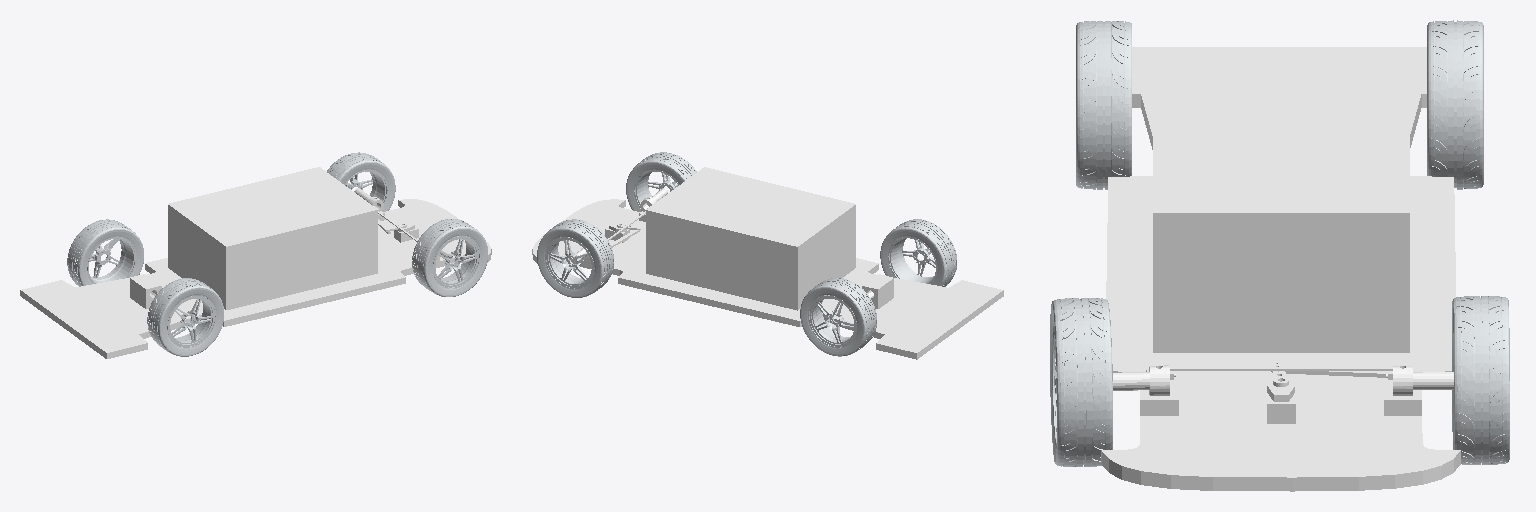
URDF robot description (robourdf):
<?xml version="1.0" encoding="utf-8"?>
<!-- This URDF was automatically created by SolidWorks to URDF Exporter! Originally created by [author] ([email redacted]) 
     Commit Version: 1.6.0-1-g15f4949  Build Version: 1.6.7594.29634
     For more information, please see http://wiki.ros.org/sw_urdf_exporter -->
<robot
  name="robourdf">
  <link
    name="base_link">
    <inertial>
      <origin
        xyz="0.0086291 -5.0975E-06 0.032322"
        rpy="0 0 0" />
      <mass
        value="2.4924" />
      <inertia
        ixx="0.0047159"
        ixy="-6.4503E-07"
        ixz="-0.00021518"
        iyy="0.017382"
        iyz="9.5079E-08"
        izz="0.019197" />
    </inertial>
    <visual>
      <origin
        xyz="0 0 0"
        rpy="0 0 0" />
      <geometry>
        <mesh
          filename="package://robourdf/meshes/base_link.STL" />
      </geometry>
      <material
        name="">
        <color
          rgba="1 1 1 1" />
      </material>
    </visual>
    <collision>
      <origin
        xyz="0 0 0"
        rpy="0 0 0" />
      <geometry>
        <mesh
          filename="package://robourdf/meshes/base_link.STL" />
      </geometry>
    </collision>
  </link>
  <link
    name="rearaxle">
    <inertial>
      <origin
        xyz="-0.13454 -0.00063038 0.022025"
        rpy="0 0 0" />
      <mass
        value="0.34207" />
      <inertia
        ixx="0.00019284"
        ixy="-2.7786E-10"
        ixz="9.9957E-12"
        iyy="0.00035274"
        iyz="1.0129E-11"
        izz="0.00019284" />
    </inertial>
    <visual>
      <origin
        xyz="0 0 0"
        rpy="0 0 0" />
      <geometry>
        <mesh
          filename="package://robourdf/meshes/rearaxle.STL" />
      </geometry>
      <material
        name="">
        <color
          rgba="0.89804 0.91765 0.92941 1" />
      </material>
    </visual>
    <collision>
      <origin
        xyz="0 0 0"
        rpy="0 0 0" />
      <geometry>
        <mesh
          filename="package://robourdf/meshes/rearaxle.STL" />
      </geometry>
    </collision>
  </link>
  <joint
    name="rear_joint"
    type="revolute">
    <origin
      xyz="0 0 0"
      rpy="0 0 0" />
    <parent
      link="base_link" />
    <child
      link="rearaxle" />
    <axis
      xyz="0 -1 0" />
    <limit
      lower="0"
      upper="0"
      effort="0"
      velocity="0" />
  </joint>
  <link
    name="steersystem">
    <inertial>
      <origin
        xyz="0 0 0"
        rpy="0 0 0" />
      <mass
        value="0.0028" />
      <inertia
        ixx="0"
        ixy="0"
        ixz="0"
        iyy="0"
        iyz="0"
        izz="0" />
    </inertial>
    <visual>
      <origin
        xyz="0 0 0"
        rpy="0 0 0" />
      <geometry>
        <mesh
          filename="package://robourdf/meshes/steersystem.STL" />
      </geometry>
      <material
        name="">
        <color
          rgba="1 1 1 1" />
      </material>
    </visual>
    <collision>
      <origin
        xyz="0 0 0"
        rpy="0 0 0" />
      <geometry>
        <mesh
          filename="package://robourdf/meshes/steersystem.STL" />
      </geometry>
    </collision>
  </link>
  <joint
    name="steerlink"
    type="revolute">
    <origin
      xyz="0 0 0"
      rpy="0 0 0" />
    <parent
      link="base_link" />
    <child
      link="steersystem" />
    <axis
      xyz="0 0 1" />
    <limit
      lower="0"
      upper="0"
      effort="0"
      velocity="0" />
  </joint>
  <link
    name="steerarm_left">
    <inertial>
      <origin
        xyz="0.14717 0.029169 0.0195"
        rpy="0 0 0" />
      <mass
        value="0.00074654" />
      <inertia
        ixx="2.7069E-07"
        ixy="-3.0442E-08"
        ixz="-1.5133E-15"
        iyy="5.1629E-09"
        iyz="-1.1614E-14"
        izz="2.7535E-07" />
    </inertial>
    <visual>
      <origin
        xyz="0 0 0"
        rpy="0 0 0" />
      <geometry>
        <mesh
          filename="package://robourdf/meshes/steerarm_left.STL" />
      </geometry>
      <material
        name="">
        <color
          rgba="1 1 1 1" />
      </material>
    </visual>
    <collision>
      <origin
        xyz="0 0 0"
        rpy="0 0 0" />
      <geometry>
        <mesh
          filename="package://robourdf/meshes/steerarm_left.STL" />
      </geometry>
    </collision>
  </link>
  <joint
    name="steerleft"
    type="revolute">
    <origin
      xyz="0 0 0"
      rpy="0 0 0" />
    <parent
      link="steersystem" />
    <child
      link="steerarm_left" />
    <axis
      xyz="0 0 0" />
    <limit
      lower="0"
      upper="0"
      effort="0"
      velocity="0" />
  </joint>
  <link
    name="left_link">
    <inertial>
      <origin
        xyz="0.15383 0.054211 0.022"
        rpy="0 0 0" />
      <mass
        value="0.00016034" />
      <inertia
        ixx="2.6046E-09"
        ixy="1.7611E-10"
        ixz="-9.2961E-25"
        iyy="4.8971E-10"
        iyz="-4.2435E-25"
        izz="2.8495E-09" />
    </inertial>
    <visual>
      <origin
        xyz="0 0 0"
        rpy="0 0 0" />
      <geometry>
        <mesh
          filename="package://robourdf/meshes/left_link.STL" />
      </geometry>
      <material
        name="">
        <color
          rgba="1 1 1 1" />
      </material>
    </visual>
    <collision>
      <origin
        xyz="0 0 0"
        rpy="0 0 0" />
      <geometry>
        <mesh
          filename="package://robourdf/meshes/left_link.STL" />
      </geometry>
    </collision>
  </link>
  <joint
    name="left_joint"
    type="revolute">
    <origin
      xyz="0 0 0"
      rpy="0 0 0" />
    <parent
      link="steerarm_left" />
    <child
      link="left_link" />
    <axis
      xyz="0 0 1" />
    <limit
      lower="0"
      upper="0"
      effort="0"
      velocity="0" />
  </joint>
  <link
    name="leftbracket">
    <inertial>
      <origin
        xyz="0.16154 0.067764 0.02198"
        rpy="0 0 0" />
      <mass
        value="0.0033831" />
      <inertia
        ixx="4.9015E-07"
        ixy="5.0201E-09"
        ixz="-5.1258E-12"
        iyy="5.7436E-08"
        iyz="4.7613E-10"
        izz="4.9213E-07" />
    </inertial>
    <visual>
      <origin
        xyz="0 0 0"
        rpy="0 0 0" />
      <geometry>
        <mesh
          filename="package://robourdf/meshes/leftbracket.STL" />
      </geometry>
      <material
        name="">
        <color
          rgba="1 1 1 1" />
      </material>
    </visual>
    <collision>
      <origin
        xyz="0 0 0"
        rpy="0 0 0" />
      <geometry>
        <mesh
          filename="package://robourdf/meshes/leftbracket.STL" />
      </geometry>
    </collision>
  </link>
  <joint
    name="leftlast"
    type="revolute">
    <origin
      xyz="0 0 0"
      rpy="0 0 0" />
    <parent
      link="left_link" />
    <child
      link="leftbracket" />
    <axis
      xyz="0 0 1" />
    <limit
      lower="0"
      upper="0"
      effort="0"
      velocity="0" />
  </joint>
  <link
    name="leftwheel">
    <inertial>
      <origin
        xyz="0.16124 0.090988 0.021969"
        rpy="0 0 0" />
      <mass
        value="0.17104" />
      <inertia
        ixx="9.6434E-05"
        ixy="-1.1144E-06"
        ixz="-7.5831E-11"
        iyy="0.00017636"
        iyz="-6.1166E-11"
        izz="9.6419E-05" />
    </inertial>
    <visual>
      <origin
        xyz="0 0 0"
        rpy="0 0 0" />
      <geometry>
        <mesh
          filename="package://robourdf/meshes/leftwheel.STL" />
      </geometry>
      <material
        name="">
        <color
          rgba="0.89804 0.91765 0.92941 1" />
      </material>
    </visual>
    <collision>
      <origin
        xyz="0 0 0"
        rpy="0 0 0" />
      <geometry>
        <mesh
          filename="package://robourdf/meshes/leftwheel.STL" />
      </geometry>
    </collision>
  </link>
  <joint
    name="leftfrontwheel"
    type="revolute">
    <origin
      xyz="0 0 0"
      rpy="0 0 0" />
    <parent
      link="leftbracket" />
    <child
      link="leftwheel" />
    <axis
      xyz="-0.013937 0.9999 0" />
    <limit
      lower="0"
      upper="0"
      effort="0"
      velocity="0" />
  </joint>
  <link
    name="rightconnectingrod">
    <inertial>
      <origin
        xyz="0.15309 -0.00031757 0.024"
        rpy="0 0 0" />
      <mass
        value="0.00026574" />
      <inertia
        ixx="2.3381E-07"
        ixy="-5.1015E-10"
        ixz="2.1301E-18"
        iyy="1.1163E-10"
        iyz="2.0318E-16"
        izz="2.3388E-07" />
    </inertial>
    <visual>
      <origin
        xyz="0 0 0"
        rpy="0 0 0" />
      <geometry>
        <mesh
          filename="package://robourdf/meshes/rightconnectingrod.STL" />
      </geometry>
      <material
        name="">
        <color
          rgba="1 1 1 1" />
      </material>
    </visual>
    <collision>
      <origin
        xyz="0 0 0"
        rpy="0 0 0" />
      <geometry>
        <mesh
          filename="package://robourdf/meshes/rightconnectingrod.STL" />
      </geometry>
    </collision>
  </link>
  <joint
    name="rightlinking"
    type="revolute">
    <origin
      xyz="0 0 0"
      rpy="0 0 0" />
    <parent
      link="left_link" />
    <child
      link="rightconnectingrod" />
    <axis
      xyz="0 0 1" />
    <limit
      lower="0"
      upper="0"
      effort="0"
      velocity="0" />
  </joint>
  <link
    name="rightconnector">
    <inertial>
      <origin
        xyz="0.15378 -0.054792 0.022"
        rpy="0 0 0" />
      <mass
        value="0.00016034" />
      <inertia
        ixx="2.6181E-09"
        ixy="-4.7296E-11"
        ixz="-1.0296E-25"
        iyy="4.7619E-10"
        iyz="1.4193E-25"
        izz="2.8495E-09" />
    </inertial>
    <visual>
      <origin
        xyz="0 0 0"
        rpy="0 0 0" />
      <geometry>
        <mesh
          filename="package://robourdf/meshes/rightconnector.STL" />
      </geometry>
      <material
        name="">
        <color
          rgba="1 1 1 1" />
      </material>
    </visual>
    <collision>
      <origin
        xyz="0 0 0"
        rpy="0 0 0" />
      <geometry>
        <mesh
          filename="package://robourdf/meshes/rightconnector.STL" />
      </geometry>
    </collision>
  </link>
  <joint
    name="rightjoint"
    type="revolute">
    <origin
      xyz="0 0 0"
      rpy="0 0 0" />
    <parent
      link="rightconnectingrod" />
    <child
      link="rightconnector" />
    <axis
      xyz="0 0 1" />
    <limit
      lower="0"
      upper="0"
      effort="0"
      velocity="0" />
  </joint>
  <link
    name="rightbracket">
    <inertial>
      <origin
        xyz="0.16228 -0.067778 0.021994"
        rpy="0 0 0" />
      <mass
        value="0.0033831" />
      <inertia
        ixx="4.8921E-07"
        ixy="2.074E-08"
        ixz="7.186E-12"
        iyy="5.8373E-08"
        iyz="-1.4765E-10"
        izz="4.9212E-07" />
    </inertial>
    <visual>
      <origin
        xyz="0 0 0"
        rpy="0 0 0" />
      <geometry>
        <mesh
          filename="package://robourdf/meshes/rightbracket.STL" />
      </geometry>
      <material
        name="">
        <color
          rgba="1 1 1 1" />
      </material>
    </visual>
    <collision>
      <origin
        xyz="0 0 0"
        rpy="0 0 0" />
      <geometry>
        <mesh
          filename="package://robourdf/meshes/rightbracket.STL" />
      </geometry>
    </collision>
  </link>
  <joint
    name="rightbracket_joint"
    type="revolute">
    <origin
      xyz="0 0 0"
      rpy="0 0 0" />
    <parent
      link="rightconnector" />
    <child
      link="rightbracket" />
    <axis
      xyz="0 0 0" />
    <limit
      lower="0"
      upper="0"
      effort="0"
      velocity="0" />
  </joint>
  <link
    name="rightwheel">
    <inertial>
      <origin
        xyz="0.16337 -0.090979 0.02199"
        rpy="0 0 0" />
      <mass
        value="0.17104" />
      <inertia
        ixx="9.6592E-05"
        ixy="-3.713E-06"
        ixz="-1.7933E-10"
        iyy="0.0001762"
        iyz="1.754E-10"
        izz="9.6419E-05" />
    </inertial>
    <visual>
      <origin
        xyz="0 0 0"
        rpy="0 0 0" />
      <geometry>
        <mesh
          filename="package://robourdf/meshes/rightwheel.STL" />
      </geometry>
      <material
        name="">
        <color
          rgba="0.89804 0.91765 0.92941 1" />
      </material>
    </visual>
    <collision>
      <origin
        xyz="0 0 0"
        rpy="0 0 0" />
      <geometry>
        <mesh
          filename="package://robourdf/meshes/rightwheel.STL" />
      </geometry>
    </collision>
  </link>
  <joint
    name="rightwheel_joint"
    type="revolute">
    <origin
      xyz="0 0 0"
      rpy="0 0 0" />
    <parent
      link="rightbracket" />
    <child
      link="rightwheel" />
    <axis
      xyz="0.046492 -0.99892 0" />
    <limit
      lower="0"
      upper="0"
      effort="0"
      velocity="0" />
  </joint>
</robot>

--- Facts derived from the render (not from the file) ---
The picture shows the robot from 3 angles, left to right: view 1: azimuth 30°, elevation 25°; view 2: azimuth 150°, elevation 25°; view 3: azimuth 270°, elevation 25°; orthographic projection.
Model robourdf with 11 links and 10 joints (10 revolute), rooted at base_link, posed every joint at zero.
Links seen in each view (by area): view 1: base_link, rearaxle, rightwheel, leftwheel; view 2: base_link, rearaxle, leftwheel, rightwheel; view 3: base_link, rearaxle, rightwheel, leftwheel, leftbracket, rightbracket, rightconnectingrod.
Link boxes in pixels (<box>): base_link: <box>20,167,491,358</box>; rearaxle: <box>67,219,223,356</box>; rightwheel: <box>412,219,487,296</box>; leftwheel: <box>327,152,395,211</box>; base_link: <box>532,167,1003,359</box>; rearaxle: <box>800,219,956,356</box>; leftwheel: <box>537,219,613,297</box>; rightwheel: <box>626,152,696,211</box>; base_link: <box>1101,47,1460,491</box>; rearaxle: <box>1076,20,1483,189</box>; rightwheel: <box>1050,298,1112,466</box>; leftwheel: <box>1452,296,1509,464</box>; leftbracket: <box>1386,366,1453,395</box>; rightbracket: <box>1113,365,1175,395</box>; rightconnectingrod: <box>1169,367,1392,370</box>.
Bounding box of the posed robot: 0.4621 × 0.209 × 0.0935 m (x, y, z).
11 mesh visuals loaded from 11 distinct referenced files (11 binary STL).
